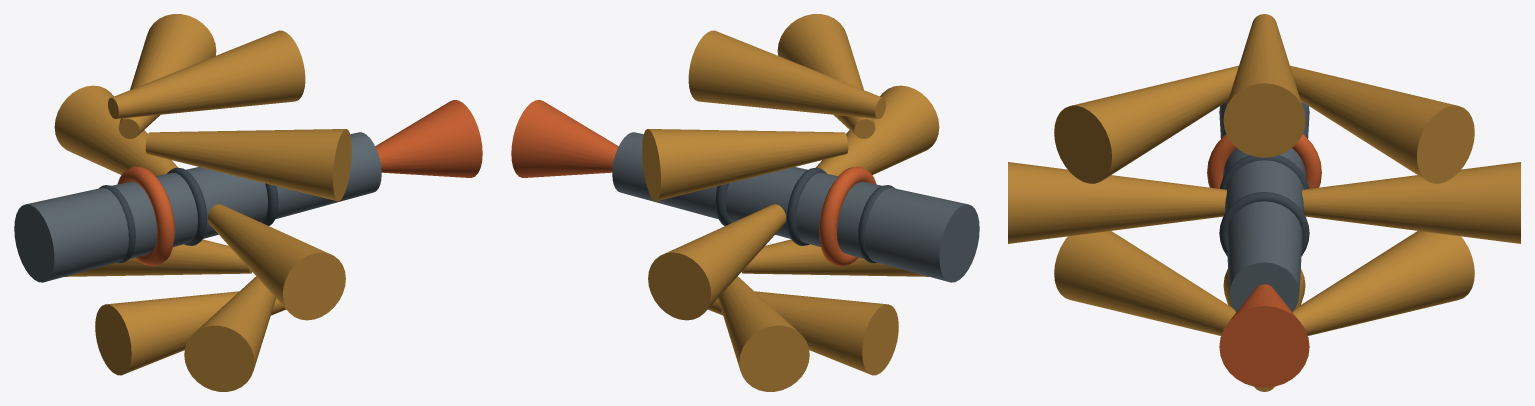
The model's file is shot.glb.
The picture shows the model from 3 angles, left to right: view 1: azimuth 30°, elevation 25°; view 2: azimuth 150°, elevation 25°; view 3: azimuth 270°, elevation 25°; orthographic projection. The views are drawn at different scales.
Size of the model in its own units: 2.71 by 1.8 by 2.5.
